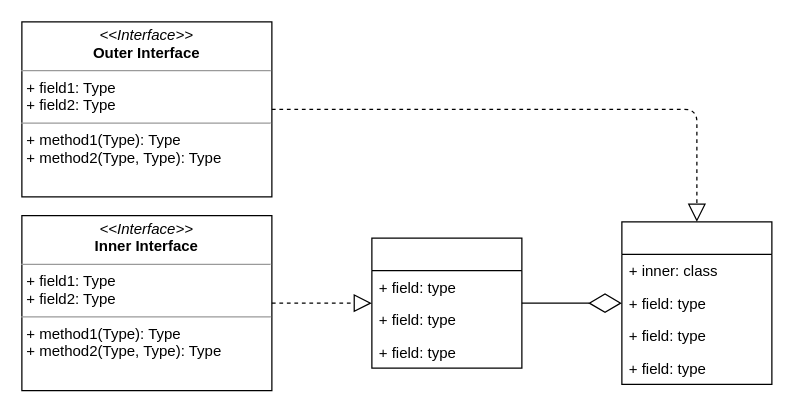
Image size: 794x413. Some labels were removed from this diagram. The shapes that lost their labels are listed below. From the top down, each one's box as (x1, y1, x2, y2) in pixels, then its label:
(371, 237, 522, 368): Inner Implement
(621, 221, 772, 384): outer Implement
